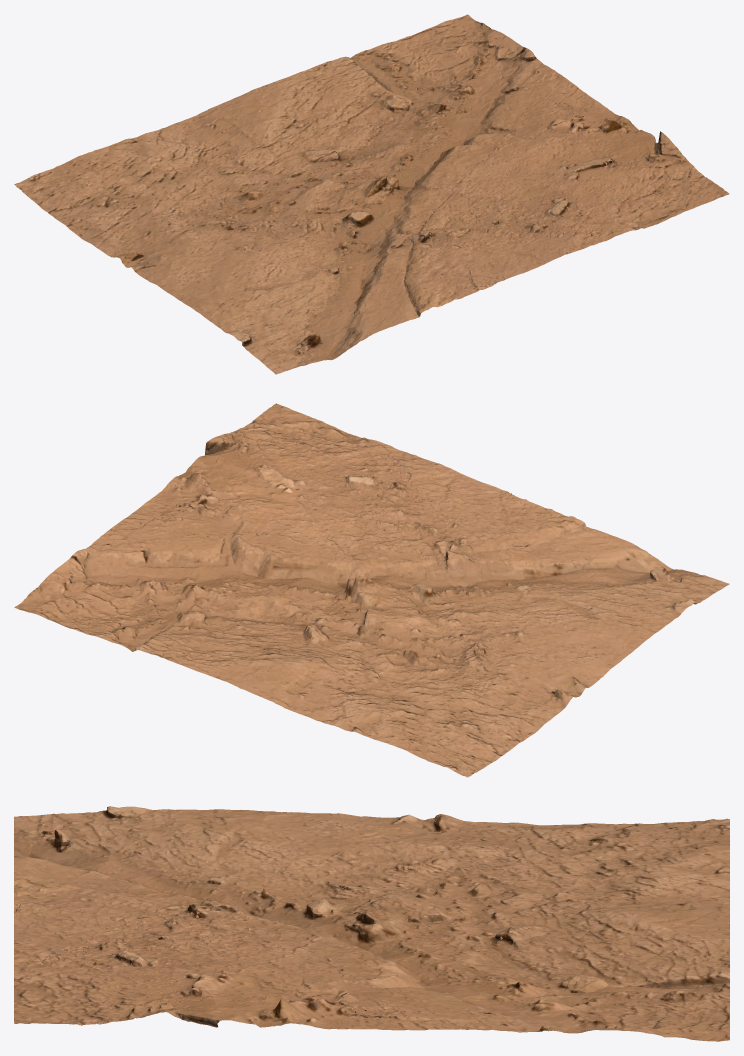
The picture shows the model from 3 angles, top to bottom: view 1: azimuth 30°, elevation 25°; view 2: azimuth 150°, elevation 25°; view 3: azimuth 270°, elevation 25°; orthographic projection. The views are drawn at different scales.
Bounding box in the file's own units: 4.18 × 0.777 × 4.18.
3 materials, 3 textured.
